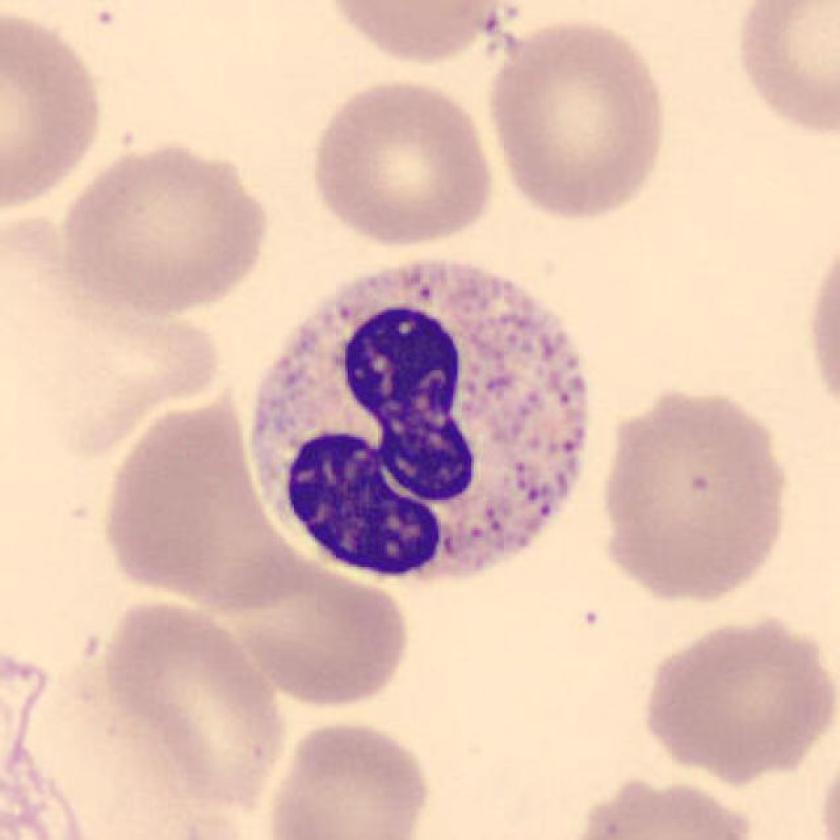neutrophil: (252, 262, 584, 581)
